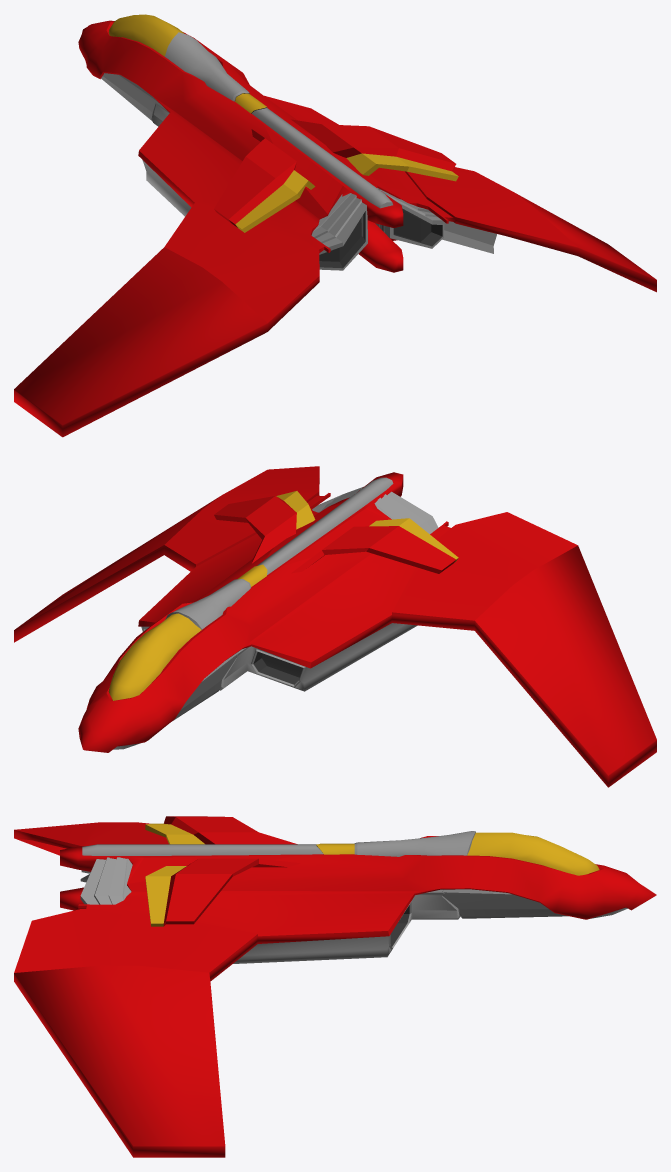
3 views of the same model, one above another, from view 1: azimuth 30°, elevation 25°; view 2: azimuth 150°, elevation 25°; view 3: azimuth 270°, elevation 25° (orthographic). The views are drawn at different scales.
Visible parts, largest first — view 1: Scocca, Dettagli, Parte sotto, Cockpit; view 2: Scocca, Dettagli, Parte sotto, Cockpit; view 3: Scocca, Dettagli, Parte sotto, Cockpit.
Part boxes in pixels (bbox=[...]): Scocca: bbox=[14, 20, 656, 437]; Dettagli: bbox=[165, 32, 444, 270]; Parte sotto: bbox=[101, 73, 496, 253]; Cockpit: bbox=[108, 14, 184, 56]; Scocca: bbox=[14, 466, 656, 787]; Dettagli: bbox=[165, 477, 438, 629]; Parte sotto: bbox=[113, 623, 417, 749]; Cockpit: bbox=[108, 613, 201, 700]; Scocca: bbox=[14, 816, 656, 1157]; Dettagli: bbox=[80, 831, 475, 904]; Parte sotto: bbox=[81, 870, 627, 963]; Cockpit: bbox=[467, 832, 599, 875].
Size of the model in its own units: 346 by 111 by 342.
